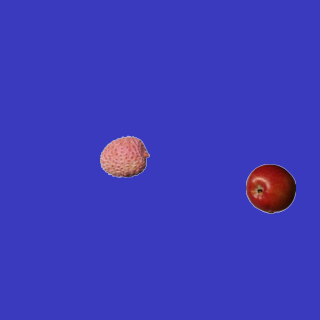Apple Braeburn: (245, 163, 295, 213)
Lychee: (99, 131, 149, 181)
